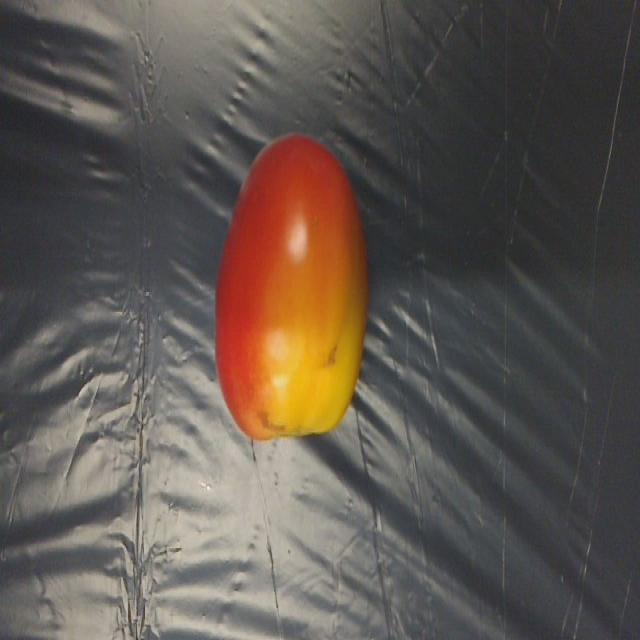sari: (212, 128, 388, 464)
